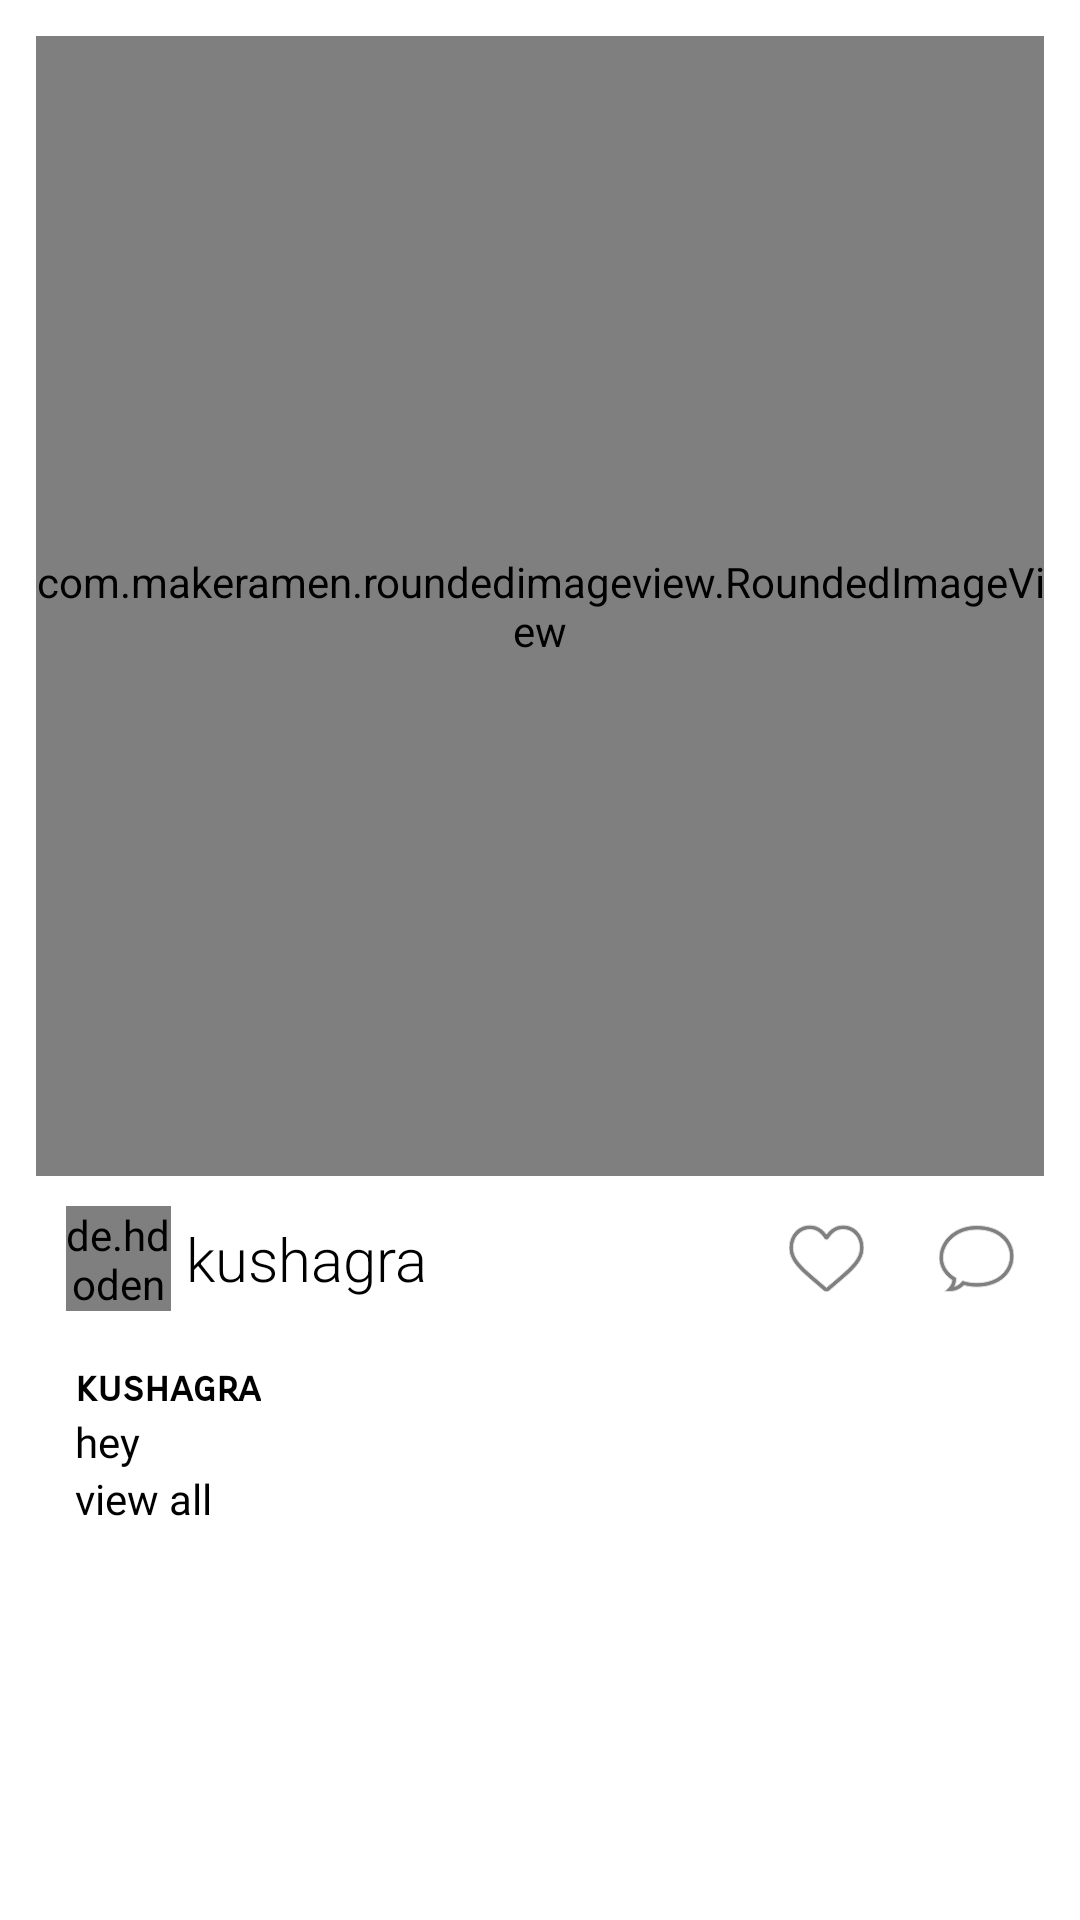

Icon click points for this 1080 x 1920 phone screenshot, format point (x, y):
comment: point (976, 1258)
heart: point (826, 1258)
